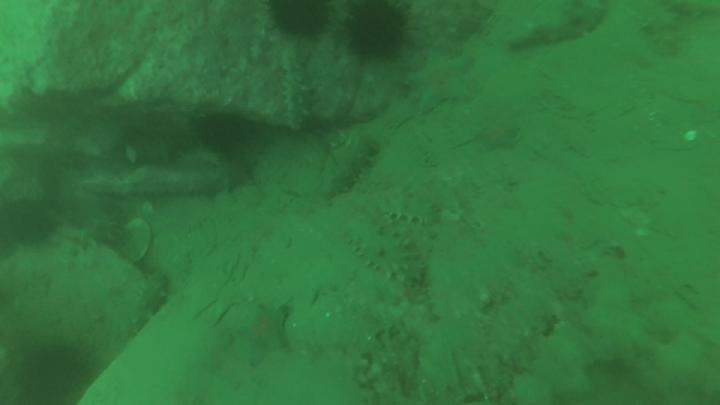echinus: (349, 1, 405, 58), (195, 113, 258, 159), (271, 2, 330, 39)
holothurian: (510, 2, 610, 50), (350, 227, 425, 288), (315, 134, 369, 196), (377, 188, 436, 226), (280, 47, 306, 127)
scallop: (122, 220, 155, 265)
starfish: (409, 50, 469, 115), (236, 304, 290, 365), (477, 117, 518, 157)
